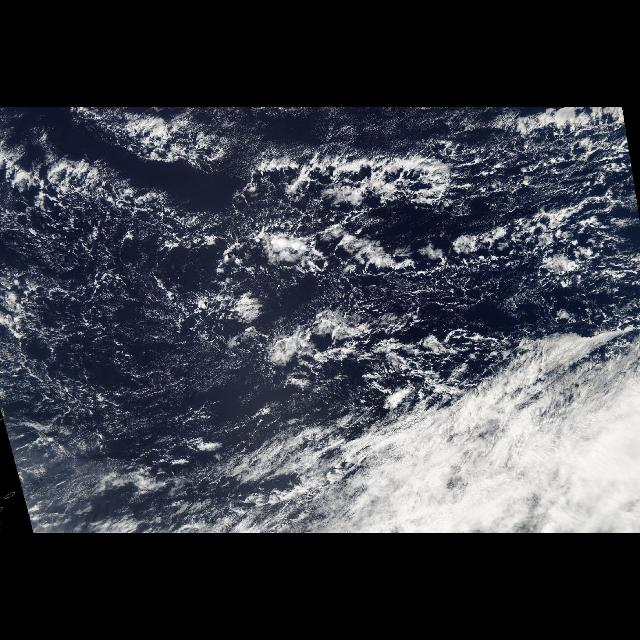Fish: (16, 127, 634, 380)
Gravel: (3, 174, 364, 466), (392, 130, 640, 338)
